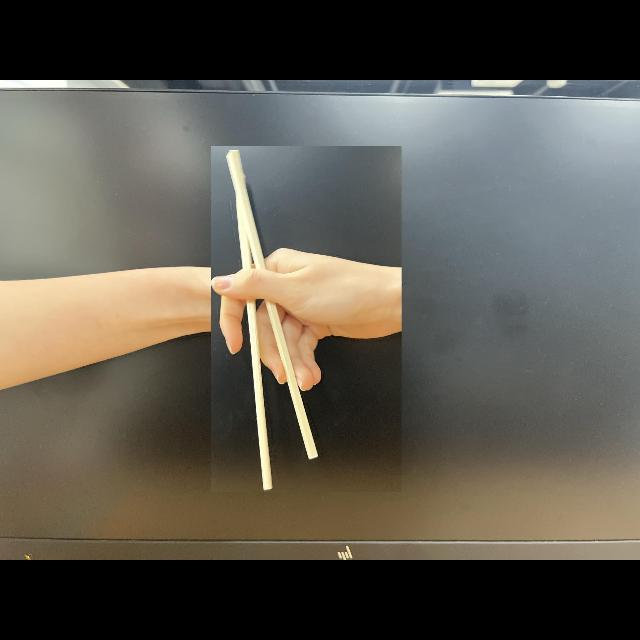stick: (211, 146, 401, 492)
